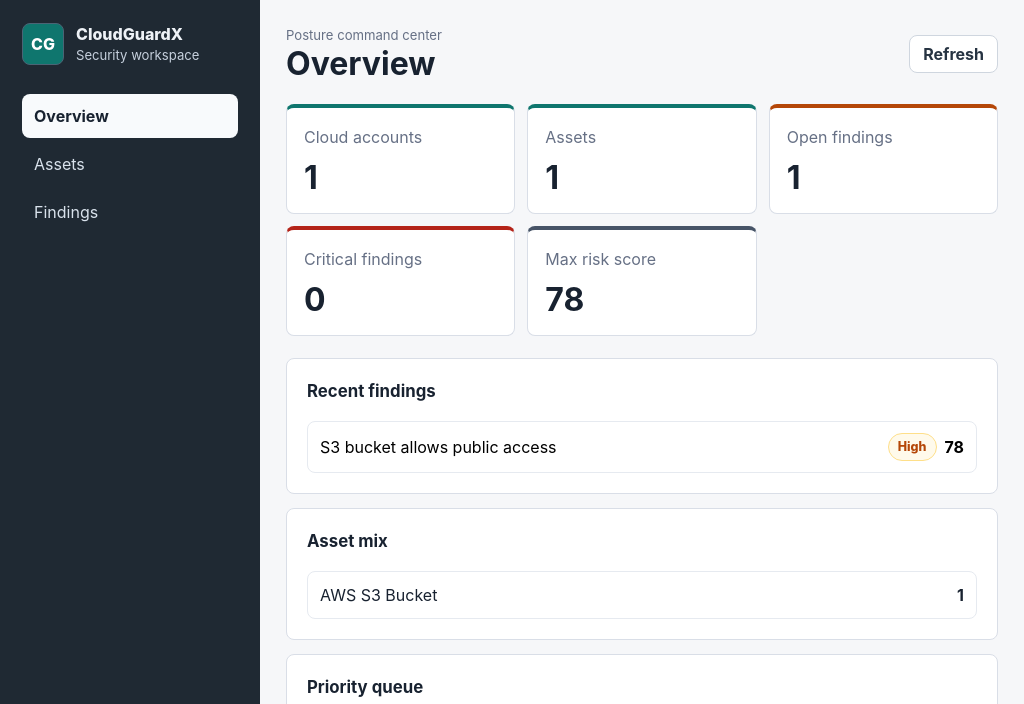
Test: App › removes updated findings from the filtered list when the new status no longer matches
Click the link "Findings". click: (66, 212)
box: [34, 202, 98, 222]
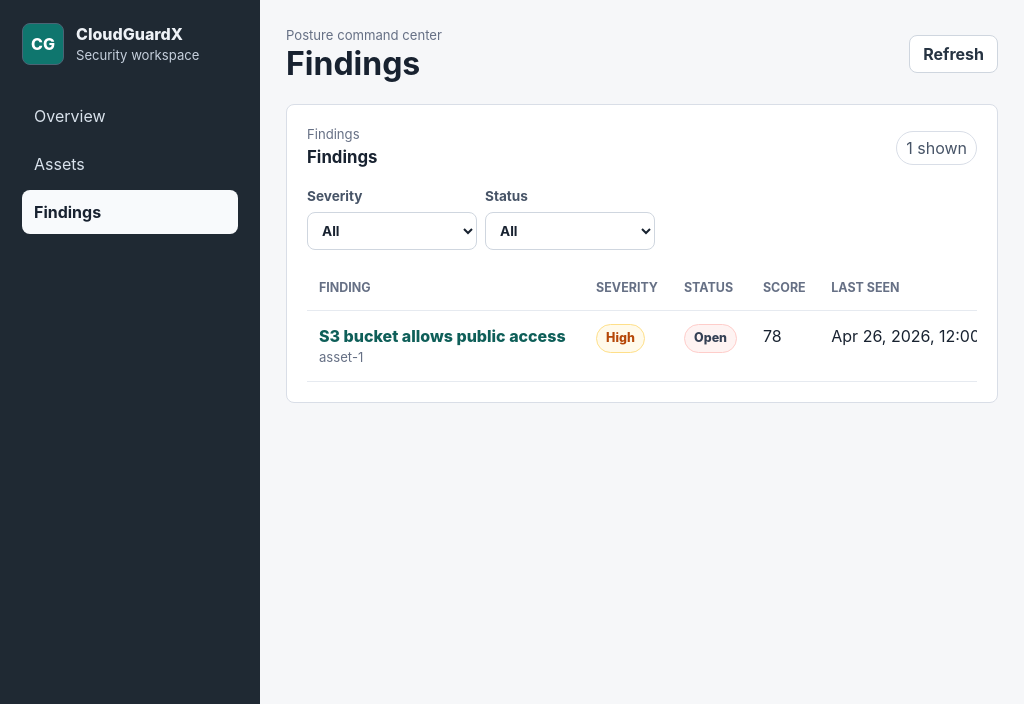
Select "Open" in the dropdown labelled "Status". click: (570, 231)
box: [485, 212, 655, 250]
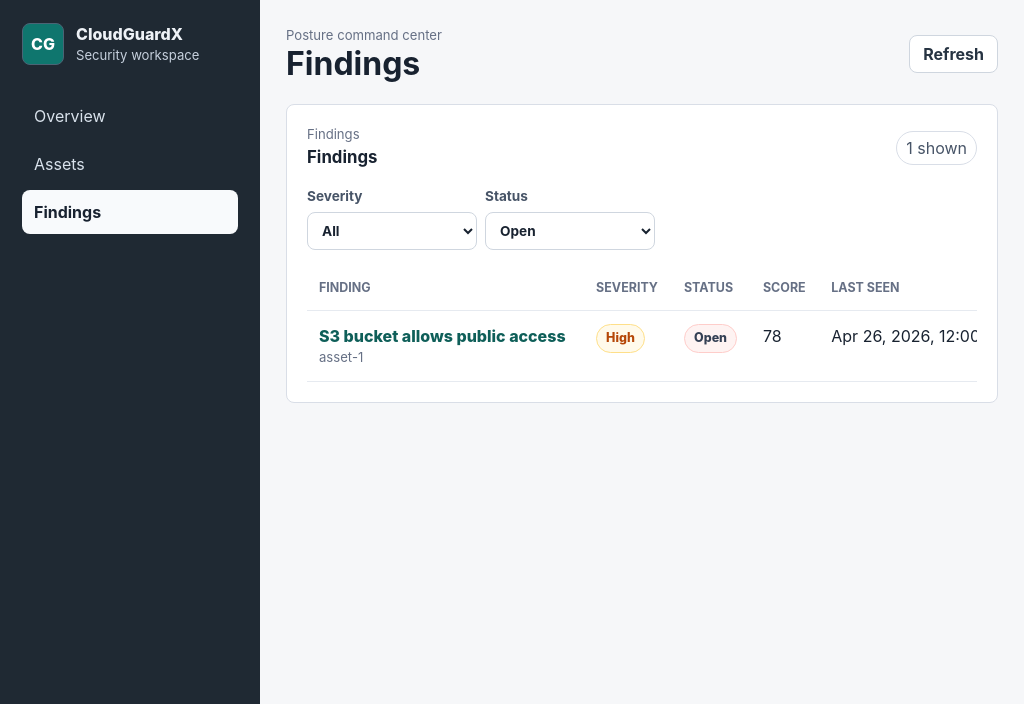
Click the button "S3 bucket allows public access". click: (442, 336)
box: [319, 324, 566, 348]
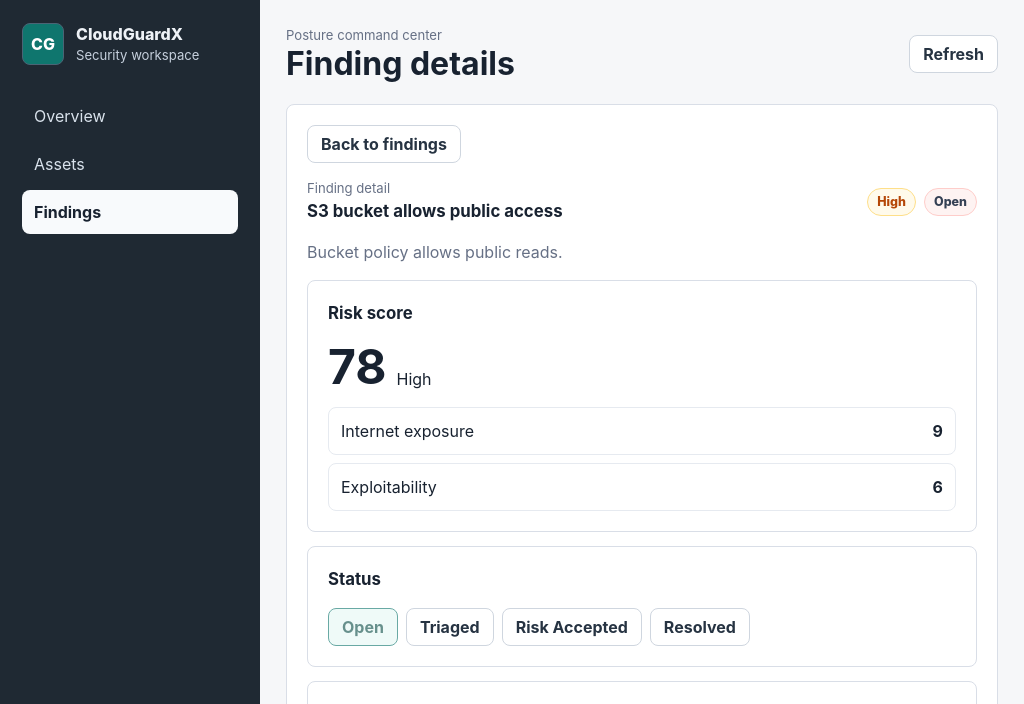
Click the button "Triaged". click: (450, 627)
box: [406, 608, 494, 646]
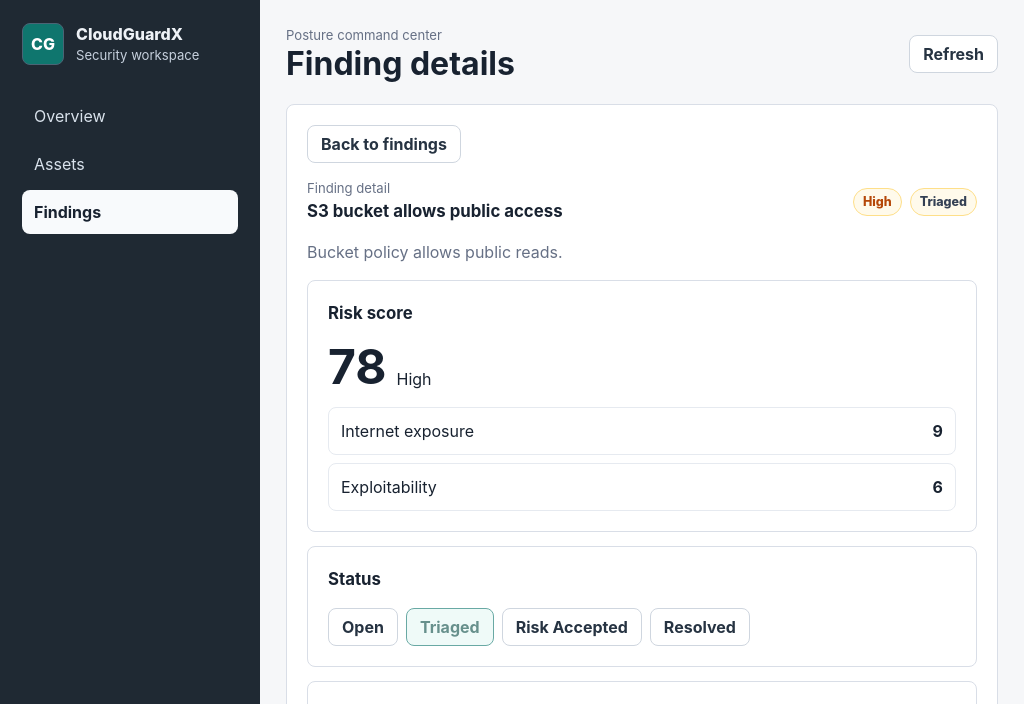
Check: the button "Triaged" is shown, box [406, 608, 494, 646]
Click the button "Back to findings". click: (384, 144)
box: [307, 126, 461, 164]
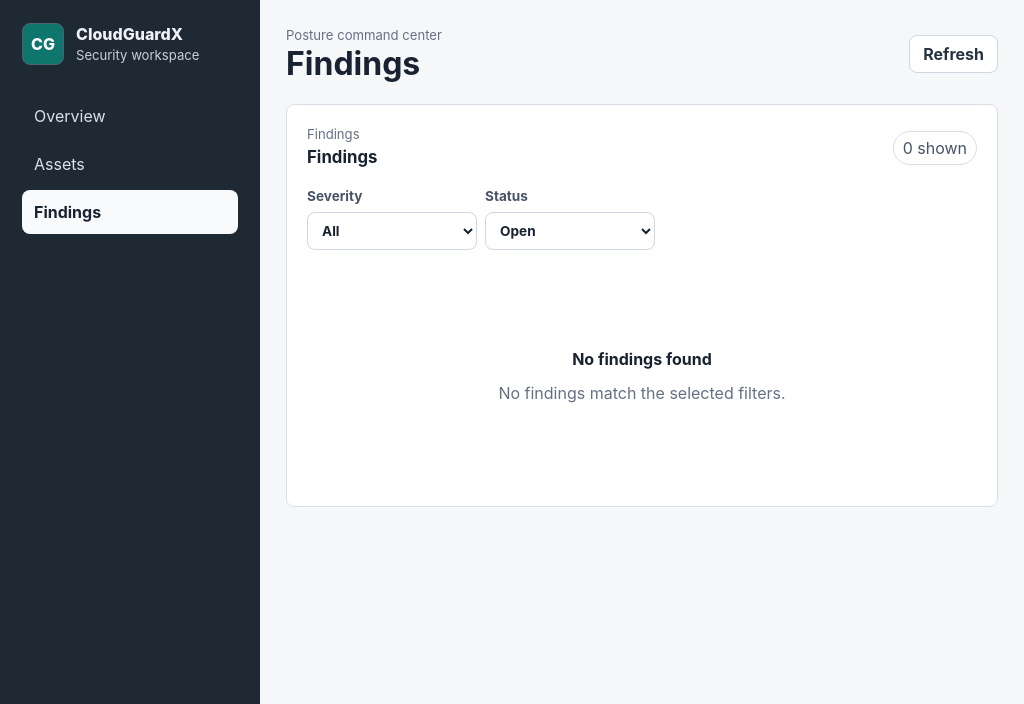
Check: the text "No findings match the selected filters." is shown, box [498, 381, 786, 405]
